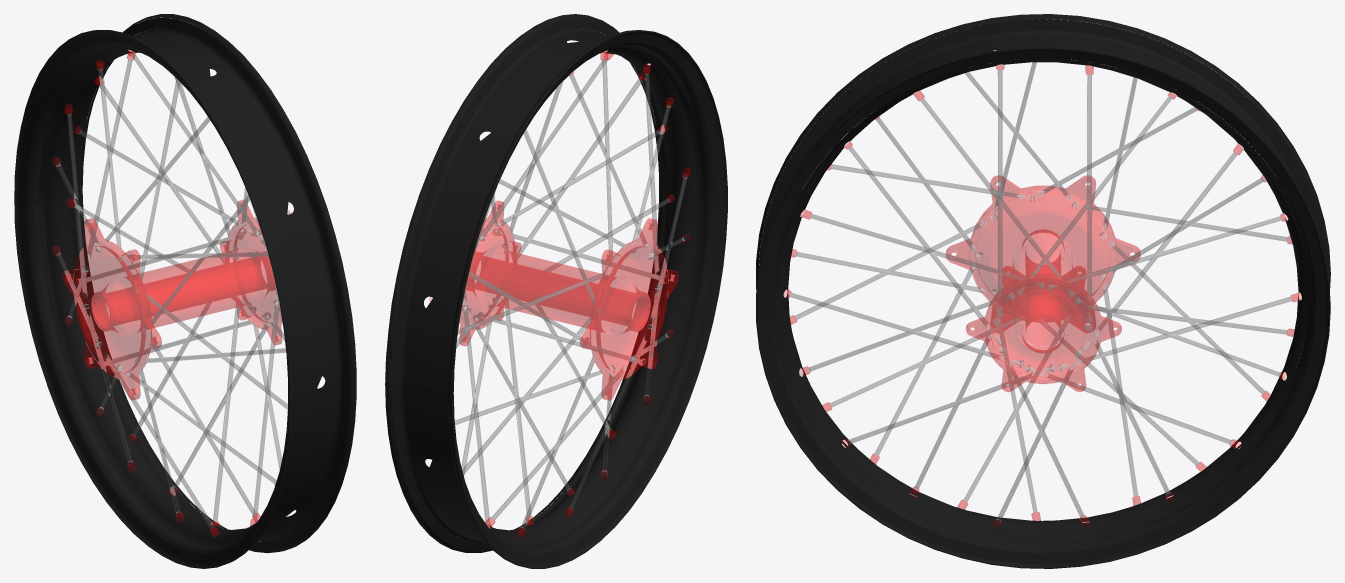
The model's file is RearWheelV2.glb.
3 views of the same model, side by side, from view 1: azimuth 30°, elevation 25°; view 2: azimuth 150°, elevation 25°; view 3: azimuth 270°, elevation 25° (orthographic). The views are drawn at different scales.
Parts seen in each view (by area): view 1: Rear_Rim, Rear_Spokes, Rear_Hub, Rear_Nipples; view 2: Rear_Rim, Rear_Spokes, Rear_Hub, Rear_Nipples; view 3: Rear_Rim, Rear_Spokes, Rear_Hub, Rear_Nipples.
Boxes of the visible parts, x1,y1,x2,y2 form: Rear_Rim: [14, 14, 356, 568]; Rear_Spokes: [56, 54, 287, 528]; Rear_Hub: [63, 199, 282, 400]; Rear_Nipples: [52, 50, 290, 537]; Rear_Rim: [385, 14, 727, 568]; Rear_Spokes: [432, 58, 687, 529]; Rear_Hub: [459, 200, 678, 400]; Rear_Nipples: [429, 50, 690, 537]; Rear_Rim: [756, 14, 1330, 568]; Rear_Spokes: [790, 62, 1291, 522]; Rear_Hub: [946, 175, 1140, 391]; Rear_Nipples: [784, 64, 1301, 527].
Size of the model in its own units: 1.7 by 4.84 by 4.84.
